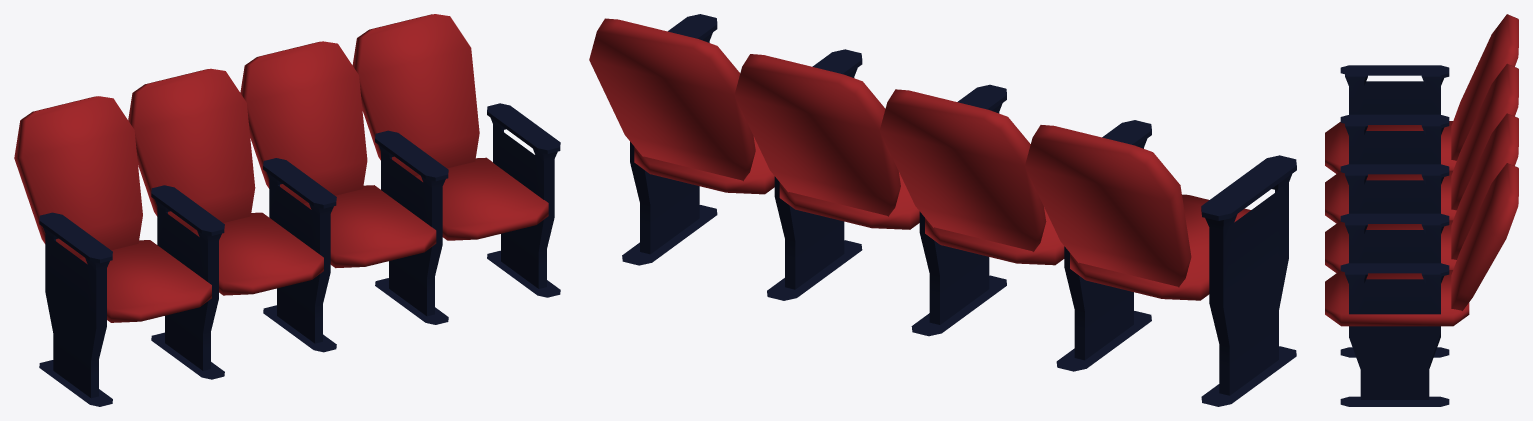
File: ArmChair.fbx
3 views of the same model, side by side, from view 1: azimuth 30°, elevation 25°; view 2: azimuth 150°, elevation 25°; view 3: azimuth 270°, elevation 25° (orthographic). The views are drawn at different scales.
Parts seen in each view (by area): view 1: Cushion, Hand Support; view 2: Cushion, Hand Support; view 3: Hand Support, Cushion.
Part boxes in pixels (bbox=[...]): Cushion: bbox=[14, 14, 548, 322]; Hand Support: bbox=[39, 103, 560, 406]; Cushion: bbox=[589, 18, 1250, 300]; Hand Support: bbox=[622, 14, 1296, 406]; Hand Support: bbox=[1340, 65, 1449, 406]; Cushion: bbox=[1325, 14, 1518, 326].
Bounding box in the file's own units: 432 × 193 × 170.
